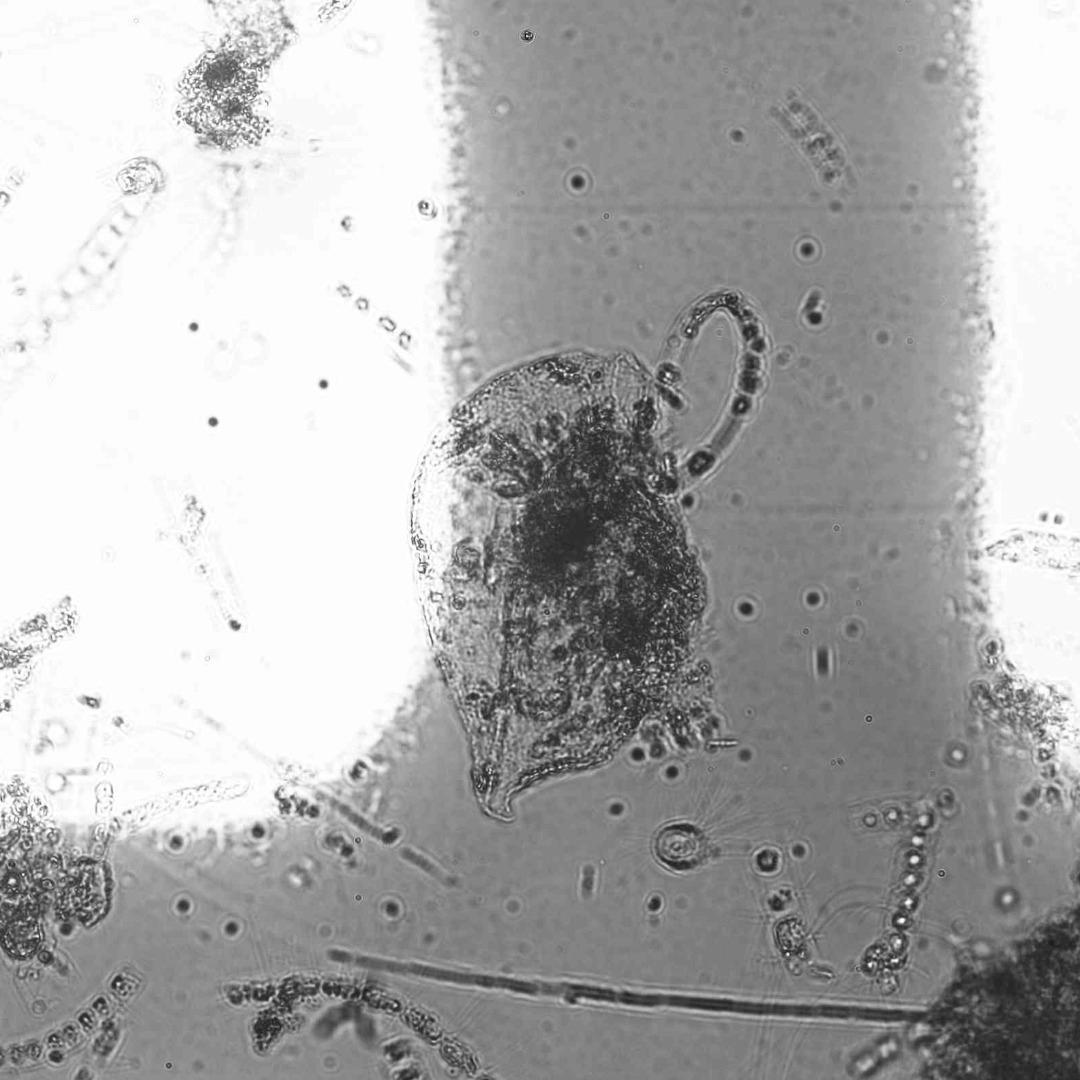noctilluca_scintillans: (408, 285, 768, 828)
